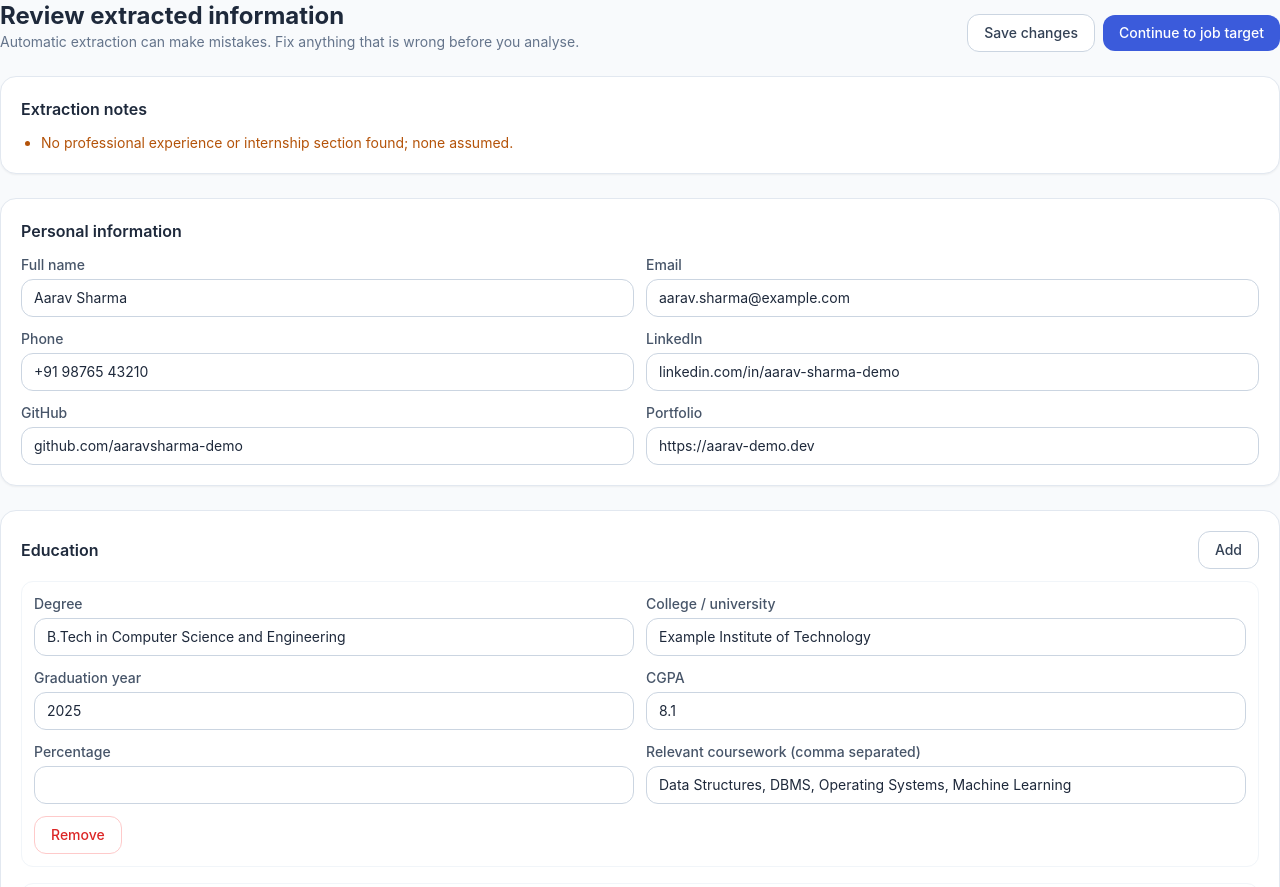
it: review extracted information › shows validation errors returned by the backend
What coordinates should you click on to do the following:
click the button "Save changes"
I would click on:
 (1031, 33)
Its box is [967,14,1095,52].
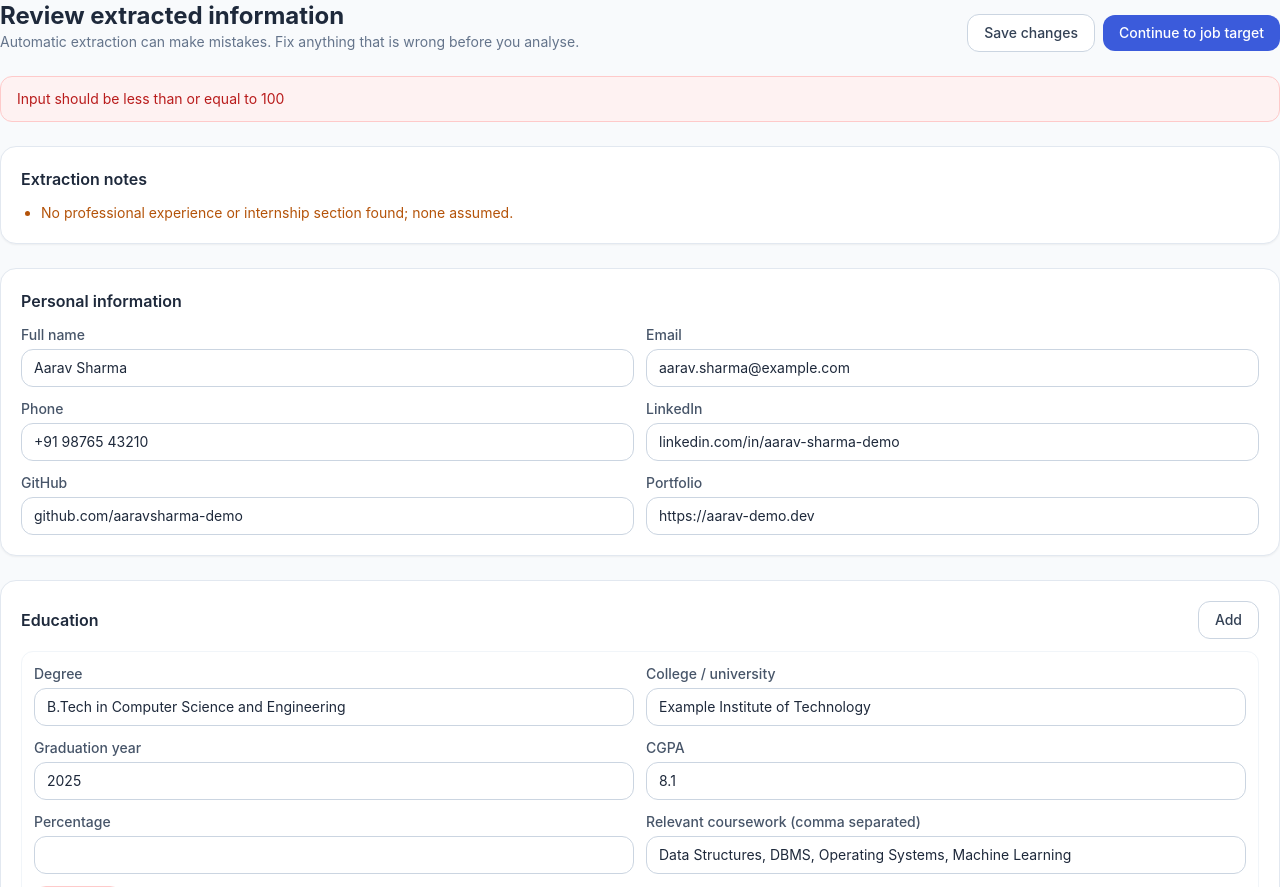
Check: the message shows "less than or equal to 100", box [17,90,284,107]
